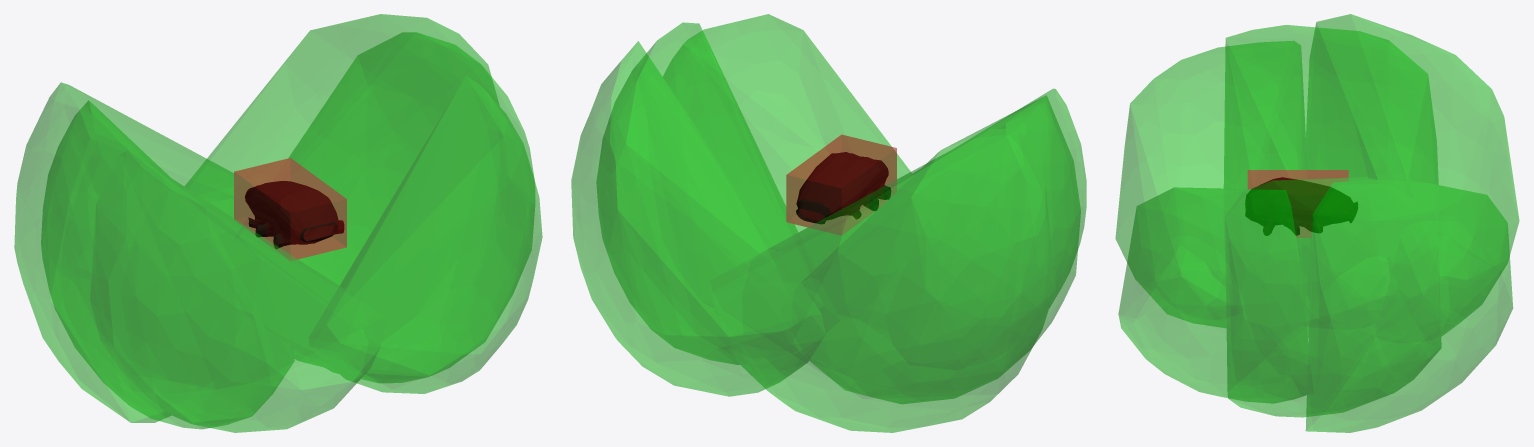
Rendered from Thorax_view.dae.
3 renders of one model, left to right at view 1: azimuth 30°, elevation 25°; view 2: azimuth 150°, elevation 25°; view 3: azimuth 270°, elevation 25°, orthographic. The views are drawn at different scales.
Parts seen in each view (by area): view 1: Lmfoot_Rom, Rffoot_Rom, Rmfoot_Rom, Lffoot_Rom, Lbfoot_Rom, Rbfoot_Rom, ThoraxBox, Torso; view 2: Rbfoot_Rom, Rmfoot_Rom, Lbfoot_Rom, Lmfoot_Rom, Lffoot_Rom, Rffoot_Rom, ThoraxBox, Torso; view 3: Lmfoot_Rom, Lbfoot_Rom, Rbfoot_Rom, Rffoot_Rom, Lffoot_Rom, Rmfoot_Rom, Torso, ThoraxBox.
Part boxes in pixels (x1=…): Lmfoot_Rom: x1=237, y1=32, x2=534, y2=382; Rffoot_Rom: x1=90, y1=150, x2=386, y2=432; Rmfoot_Rom: x1=41, y1=100, x2=293, y2=429; Lffoot_Rom: x1=308, y1=76, x2=542, y2=393; Lbfoot_Rom: x1=184, y1=14, x2=498, y2=366; Rbfoot_Rom: x1=14, y1=82, x2=233, y2=422; ThoraxBox: x1=234, y1=158, x2=346, y2=260; Torso: x1=245, y1=181, x2=344, y2=248; Rbfoot_Rom: x1=710, y1=128, x2=1054, y2=432; Rmfoot_Rom: x1=795, y1=95, x2=1080, y2=403; Lbfoot_Rom: x1=571, y1=41, x2=825, y2=396; Lmfoot_Rom: x1=596, y1=22, x2=814, y2=364; Lffoot_Rom: x1=663, y1=14, x2=911, y2=301; Rffoot_Rom: x1=910, y1=88, x2=1086, y2=307; ThoraxBox: x1=786, y1=134, x2=896, y2=235; Torso: x1=796, y1=152, x2=891, y2=224; Lmfoot_Rom: x1=1225, y1=177, x2=1441, y2=417; Lbfoot_Rom: x1=1305, y1=179, x2=1513, y2=432; Rbfoot_Rom: x1=1306, y1=14, x2=1519, y2=335; Rffoot_Rom: x1=1115, y1=41, x2=1306, y2=327; Lffoot_Rom: x1=1118, y1=187, x2=1312, y2=403; Rmfoot_Rom: x1=1224, y1=25, x2=1438, y2=337; Torso: x1=1245, y1=177, x2=1357, y2=235; ThoraxBox: x1=1247, y1=170, x2=1348, y2=237.
Bounding box in the file's own units: 0.9874 × 0.8354 × 0.6548.
